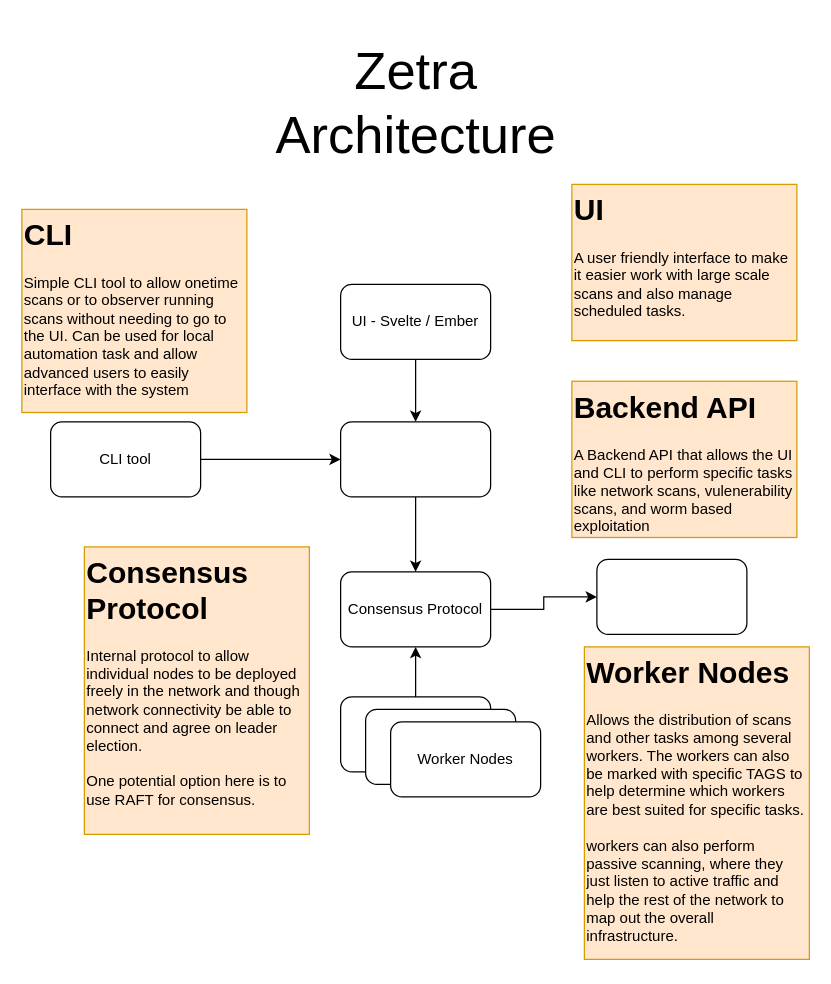
Image size: 831x984. Some labels were removed from this diagram. Each missing label, with the centre of its shape:
Backend API: the point at 415,459
Persistence Storage: the point at 671,596
